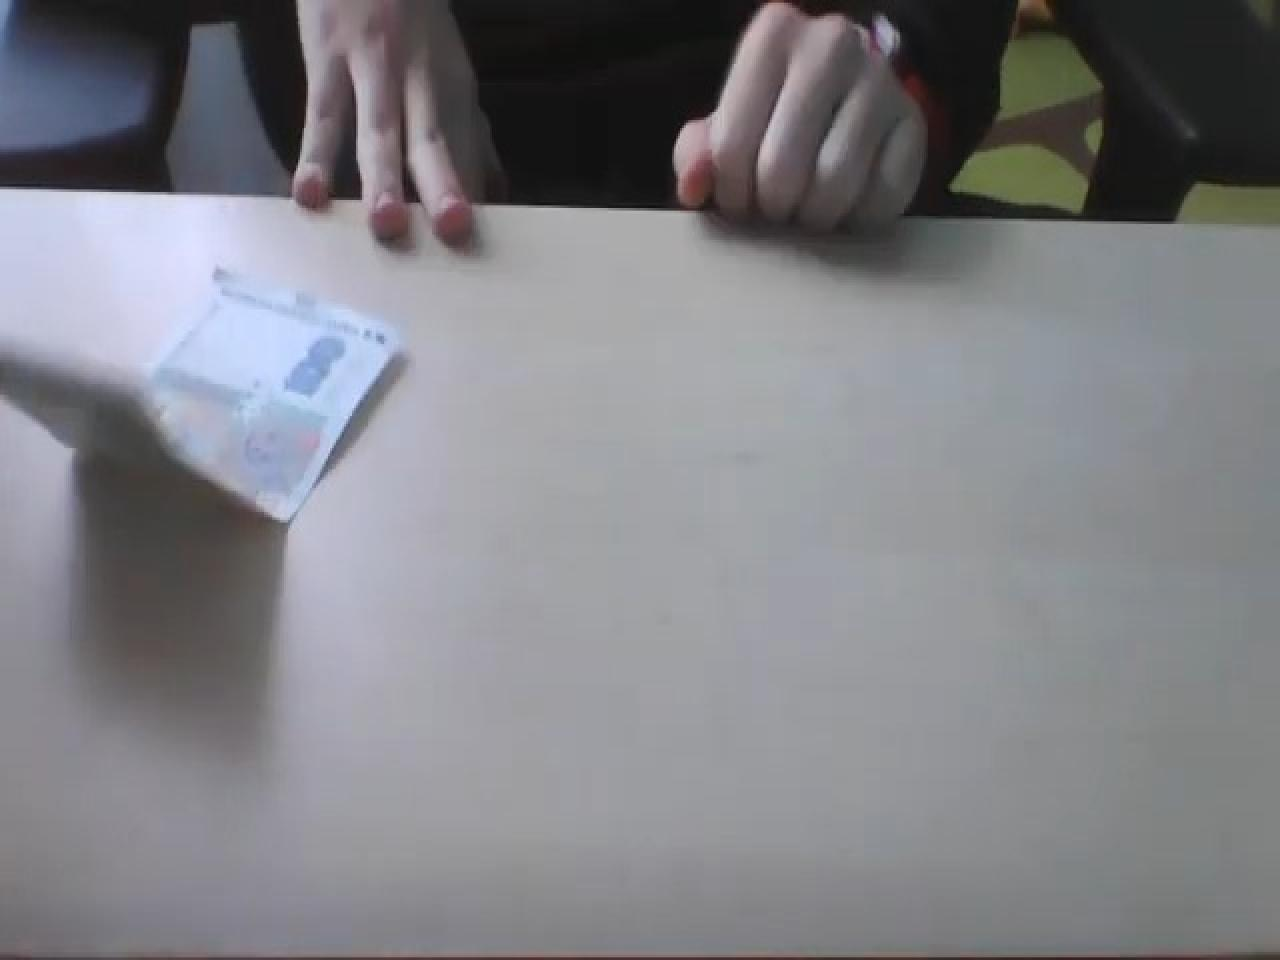100leva: (140, 259, 402, 525)
